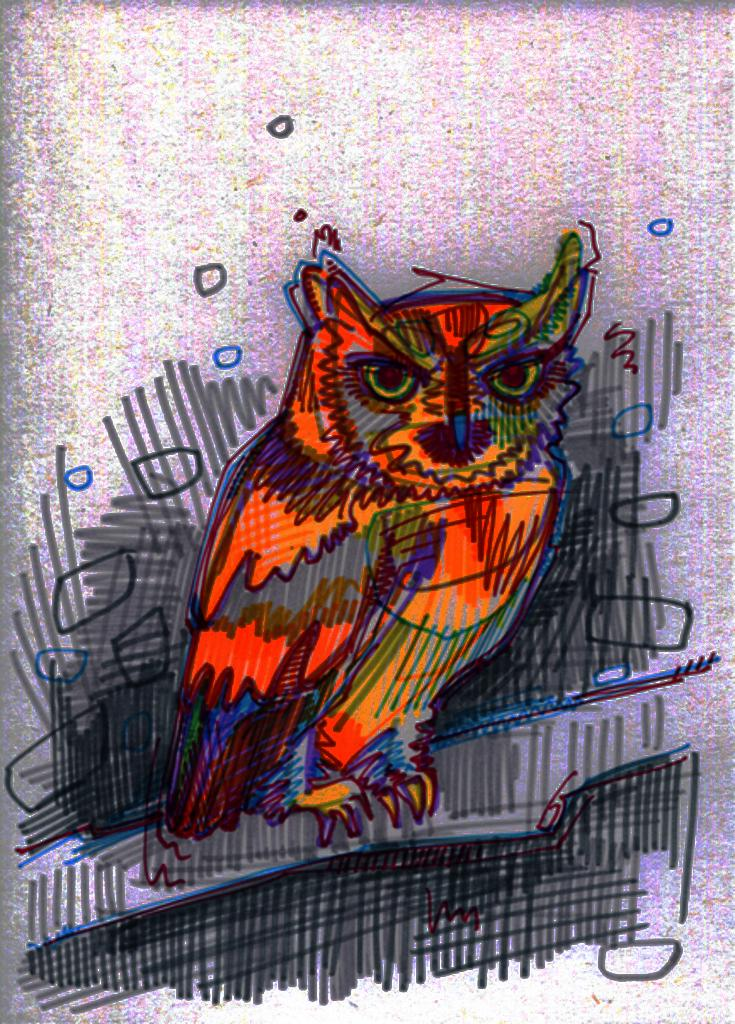Owl: (138, 234, 612, 828)
